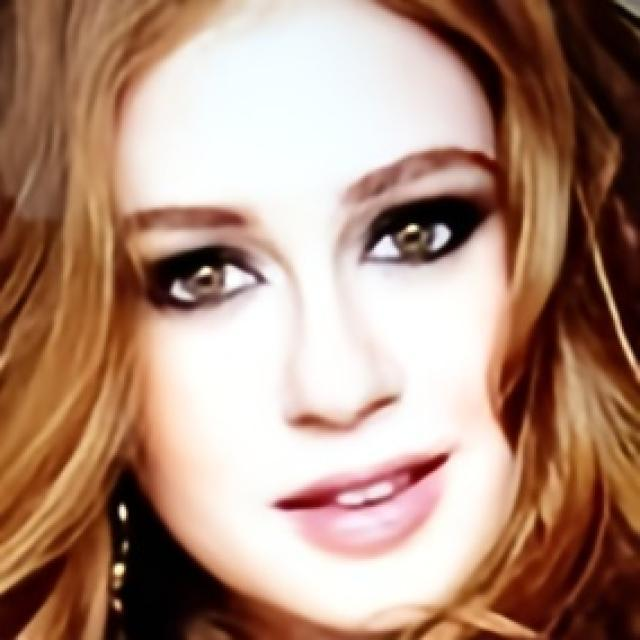content: (111, 0, 534, 640)
